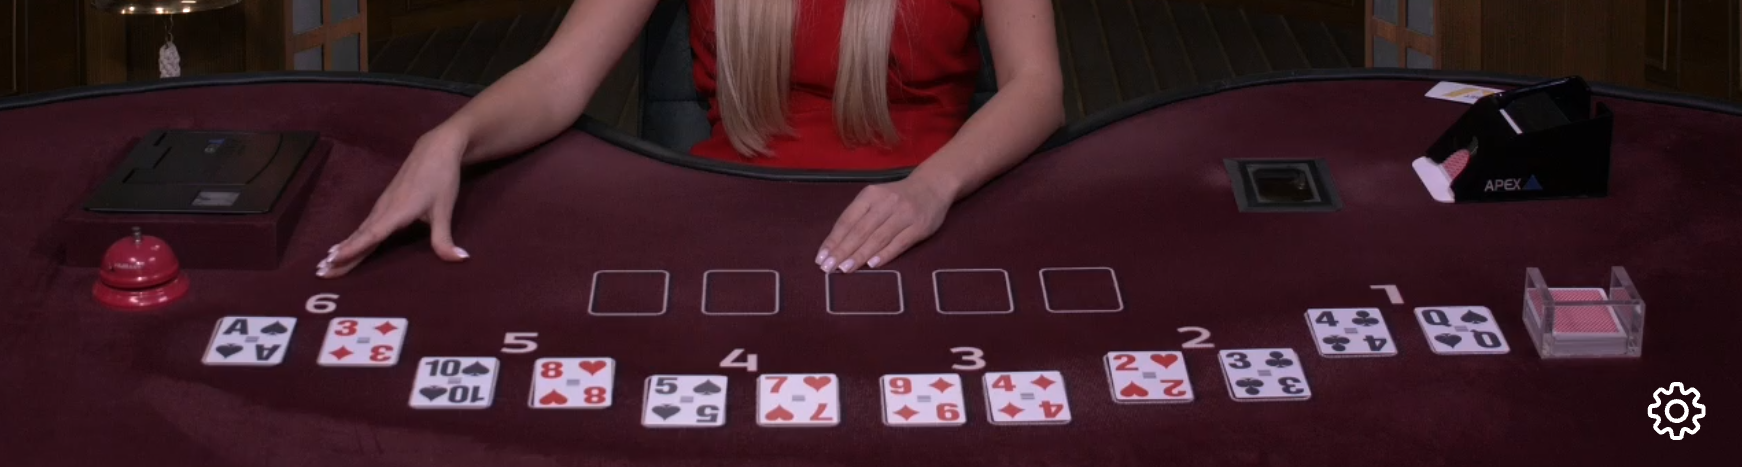10s: (408, 357, 503, 410)
2h: (1098, 348, 1199, 406)
3c: (1213, 344, 1316, 406)
3d: (314, 315, 410, 370)
4c: (1301, 304, 1401, 360)
4d: (977, 367, 1077, 429)
5s: (642, 369, 731, 429)
7h: (753, 368, 849, 431)
8h: (525, 352, 622, 414)
9d: (877, 367, 967, 433)
ass: (203, 312, 296, 366)
qs: (1412, 304, 1515, 358)
